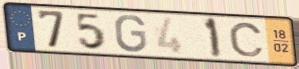1: (201, 16, 225, 59)
4: (154, 16, 185, 56)
5: (76, 12, 109, 51)
7: (37, 8, 68, 50)
C: (227, 21, 267, 58)
G: (114, 14, 149, 54)
